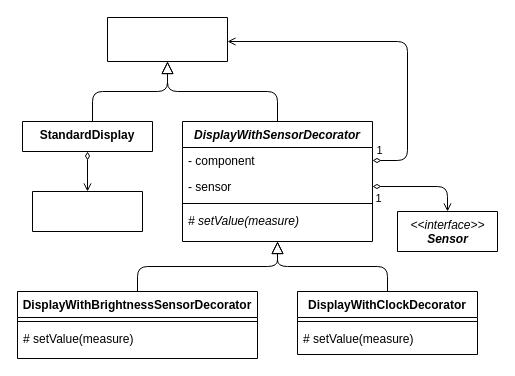
The diagram is 515 pixels wide and 376 high, and some of its shapes have lost their labels. The shapes that lost their labels are listed below. From the top down, each one's centre as x and y in pixels, then its label:
At point 167,39: "<<interface>> Display".
At point 87,211: "<<interface>> StreamSender".
